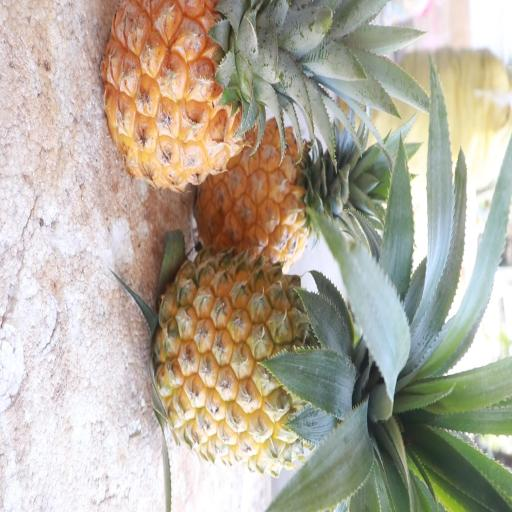Pineapple - v8 v1: (148, 248, 386, 478), (101, 1, 341, 222), (194, 112, 362, 278)
